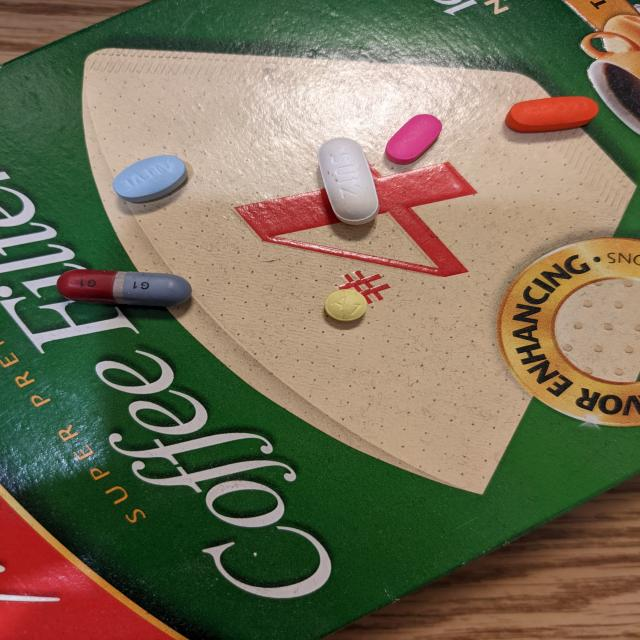non-organic waste: (315, 137, 381, 226), (56, 268, 193, 308), (112, 153, 189, 204), (504, 95, 600, 134), (383, 112, 443, 166), (324, 289, 368, 322)
